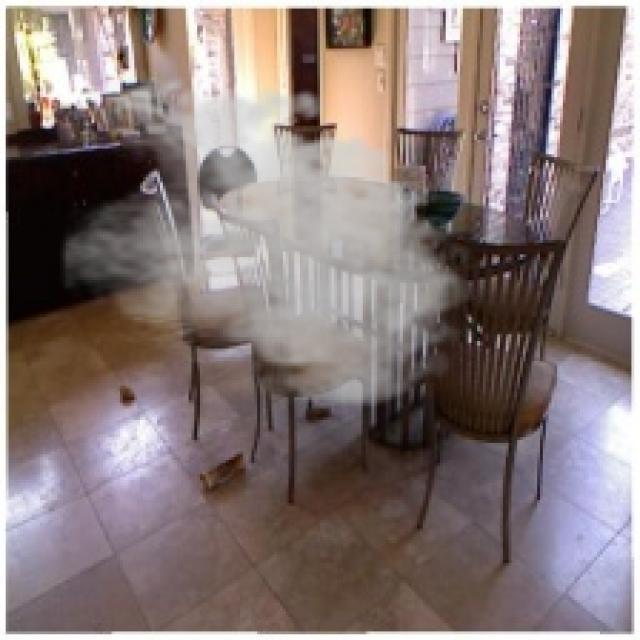Smoke: (60, 66, 483, 414)
